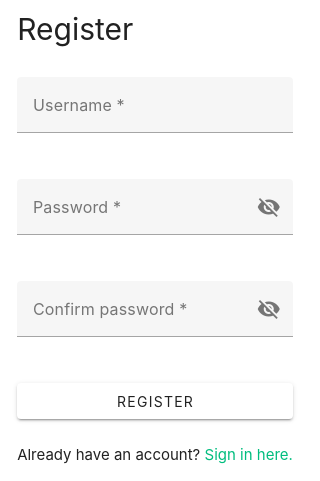
it: Signup › validates the password Must be at least 8 characters long
Replace the text in the field labelled "Username *" with "Username" at (79,105), box [33,95,125,115]
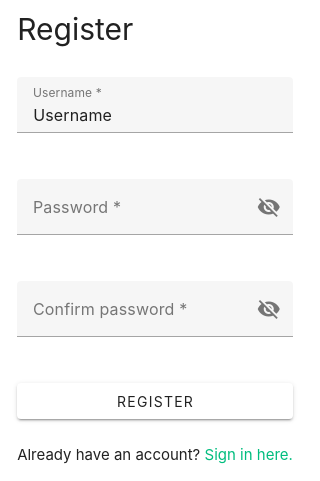
Replace the text in the password field labelled "Password *" with "1bA!aaa" at (77,207), box [33,197,121,217]
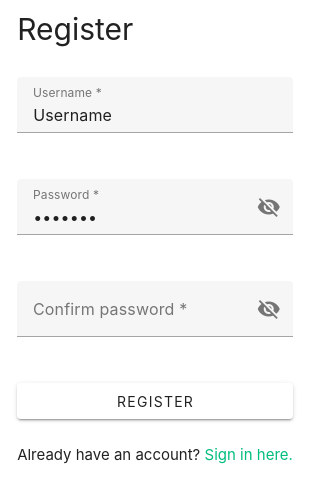
Click the button with test id "button_submit" at (155,401), box [17,383,293,419]
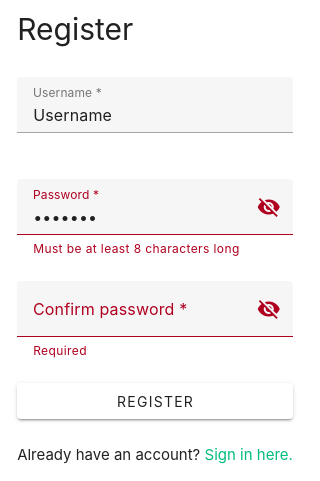
Check: the text "Must be at least 8 characters long" is shown, box [33,241,240,256]
